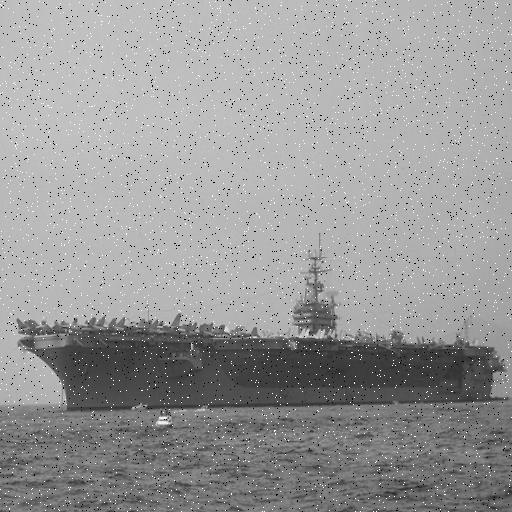Portanaves: (14, 231, 509, 419)
